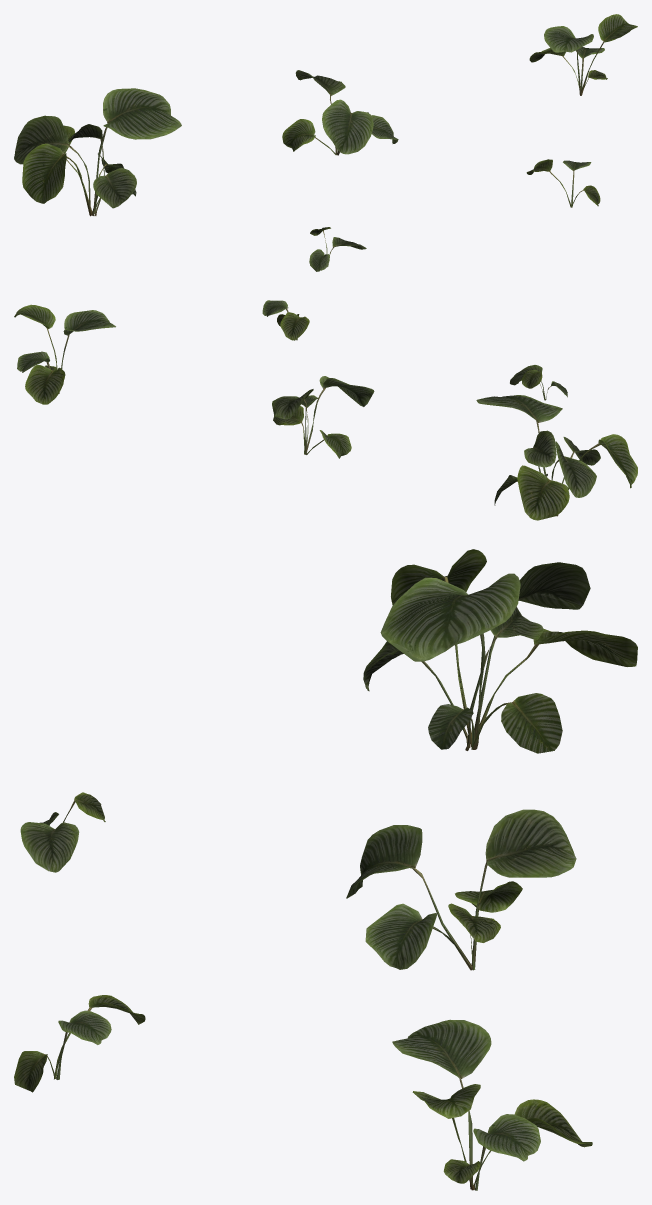
Rendered from crop-leaves.glb.
The picture shows the model from 3 angles, top to bottom: view 1: azimuth 30°, elevation 25°; view 2: azimuth 150°, elevation 25°; view 3: azimuth 270°, elevation 25°; orthographic projection. The views are drawn at different scales.
Parts seen in each view (by area): view 1: calathea_orbifolia_01_a, calathea_orbifolia_01_b, calathea_orbifolia_01_c, calathea_orbifolia_01_e, calathea_orbifolia_01_d; view 2: calathea_orbifolia_01_a, calathea_orbifolia_01_c, calathea_orbifolia_01_b, calathea_orbifolia_01_e, calathea_orbifolia_01_d; view 3: calathea_orbifolia_01_a, calathea_orbifolia_01_b, calathea_orbifolia_01_c, calathea_orbifolia_01_e, calathea_orbifolia_01_d.
Part boxes in pixels (x1,y1,x2,y2): calathea_orbifolia_01_a: [14, 88, 181, 216]; calathea_orbifolia_01_b: [282, 70, 398, 155]; calathea_orbifolia_01_c: [529, 14, 637, 95]; calathea_orbifolia_01_e: [526, 159, 600, 207]; calathea_orbifolia_01_d: [309, 227, 366, 271]; calathea_orbifolia_01_a: [476, 395, 637, 520]; calathea_orbifolia_01_c: [14, 304, 115, 404]; calathea_orbifolia_01_b: [272, 376, 374, 458]; calathea_orbifolia_01_e: [262, 300, 309, 340]; calathea_orbifolia_01_d: [510, 365, 567, 400]; calathea_orbifolia_01_a: [363, 549, 637, 753]; calathea_orbifolia_01_b: [346, 809, 576, 970]; calathea_orbifolia_01_c: [392, 1019, 592, 1190]; calathea_orbifolia_01_e: [14, 995, 145, 1092]; calathea_orbifolia_01_d: [20, 792, 105, 872].
Bounding box in the file's own units: 2.49 × 0.4243 × 1.19.
1 material, 1 textured.
